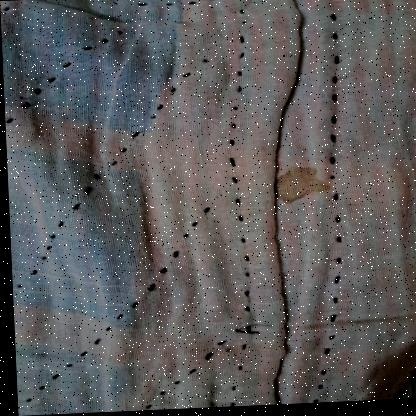spot: (266, 162, 335, 209)
